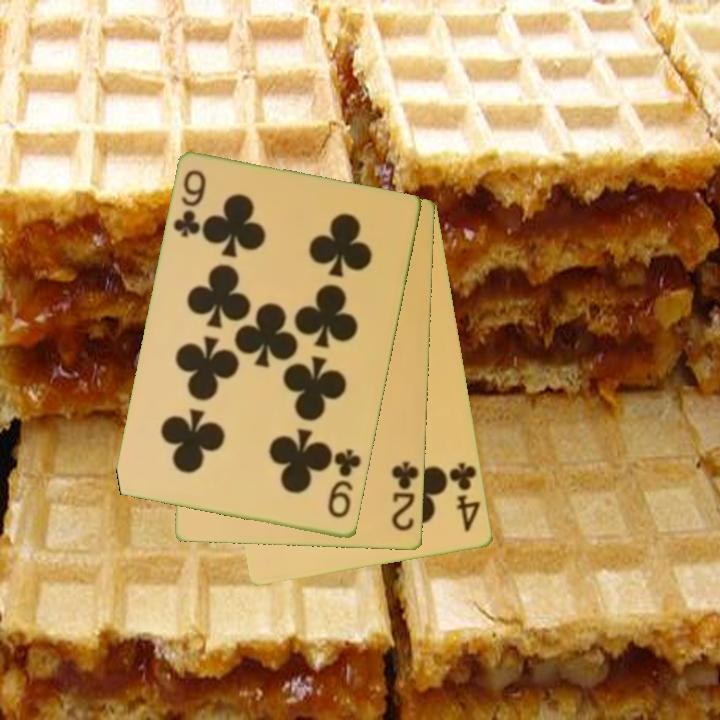2c: (388, 459, 421, 535)
4c: (446, 459, 484, 535)
9c: (324, 445, 365, 522), (170, 167, 210, 241)
